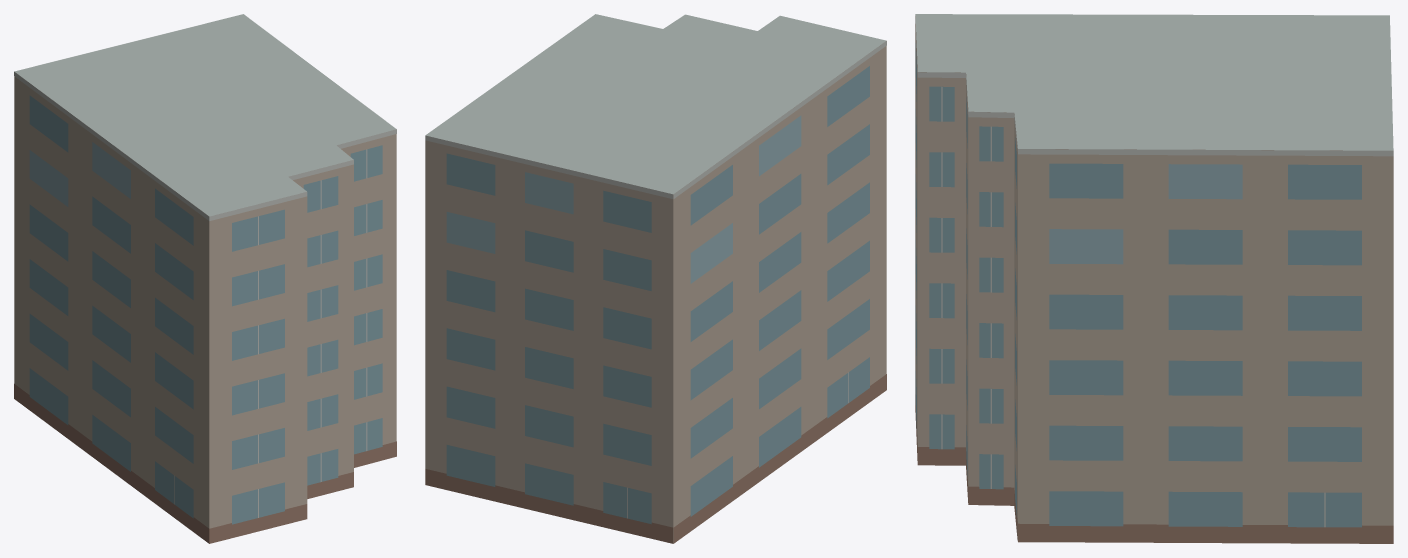
File: survey-upis-32771317.glb
The picture shows the model from 3 angles, left to right: view 1: azimuth 30°, elevation 25°; view 2: azimuth 150°, elevation 25°; view 3: azimuth 270°, elevation 25°; orthographic projection. The views are drawn at different scales.
Visible parts, largest first — view 1: survey-upis-32771317.tmp; view 2: survey-upis-32771317.tmp; view 3: survey-upis-32771317.tmp.
Boxes of the visible parts, x1,y1,x2,y2 form: survey-upis-32771317.tmp: (14, 14, 396, 543); survey-upis-32771317.tmp: (425, 14, 886, 543); survey-upis-32771317.tmp: (915, 14, 1393, 543).
Size of the model in its own units: 12.91 by 17.3 by 19.08.
